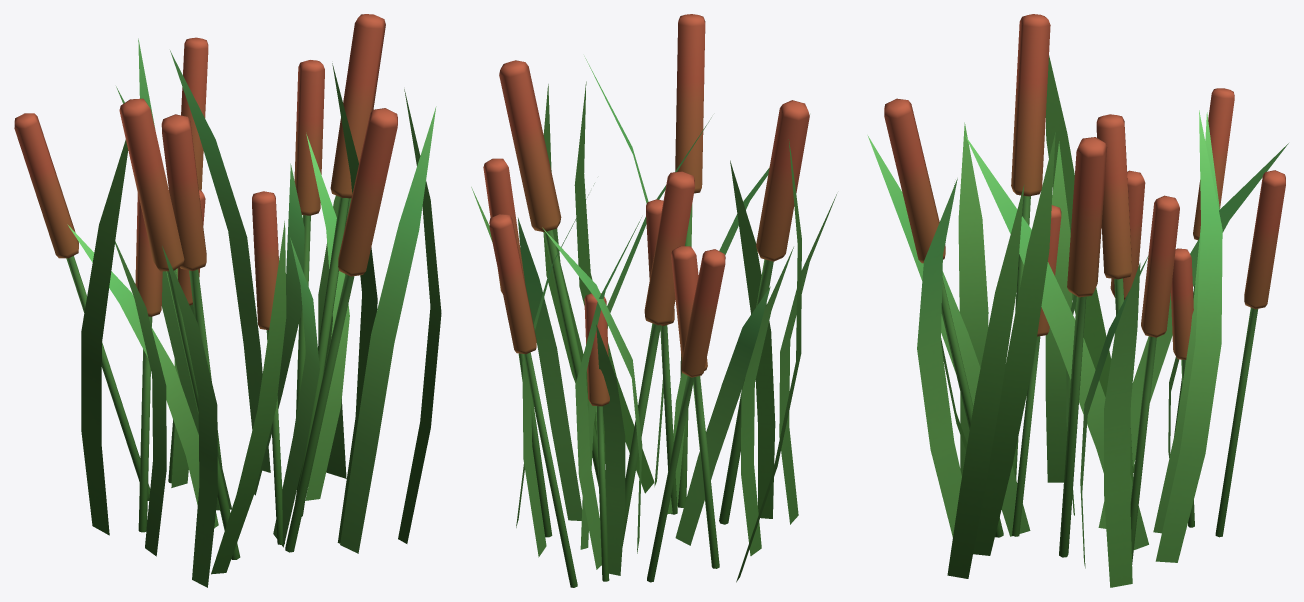
The model's file is SM_Sw_SpecialTile_Bush.fbx.
3 views of the same model, side by side, from view 1: azimuth 30°, elevation 25°; view 2: azimuth 150°, elevation 25°; view 3: azimuth 270°, elevation 25° (orthographic). The views are drawn at different scales.
Visible parts, largest first — view 1: SM_Sw_SpecialTile_Bush; view 2: SM_Sw_SpecialTile_Bush; view 3: SM_Sw_SpecialTile_Bush.
Part boxes in pixels (box(x1,y1,x2,y2)): SM_Sw_SpecialTile_Bush: box(14, 14, 441, 587); SM_Sw_SpecialTile_Bush: box(471, 14, 836, 587); SM_Sw_SpecialTile_Bush: box(867, 14, 1288, 587).
Bounding box in the file's own units: 106 × 152 × 127.
